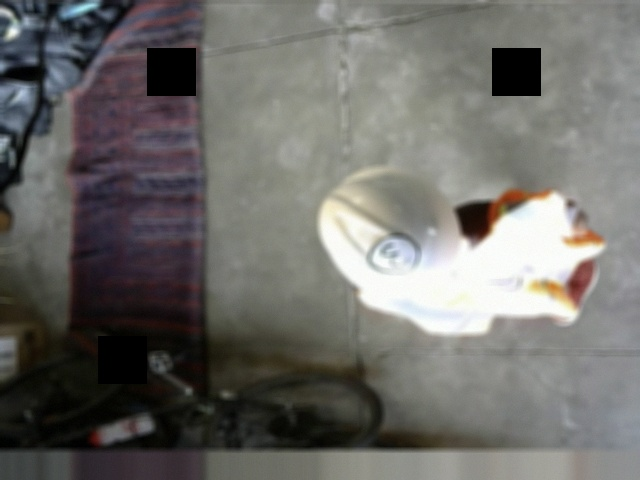three: (366, 234, 417, 273)
